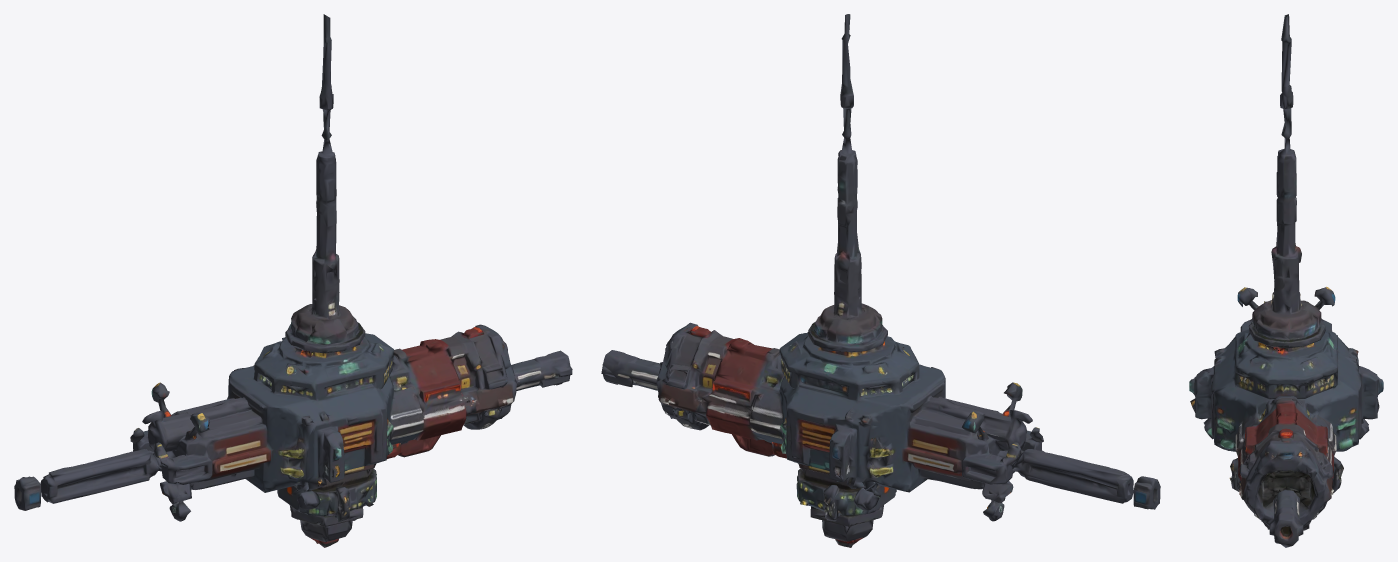
File: spacestation1.glb
3 renders of one model, left to right at view 1: azimuth 30°, elevation 25°; view 2: azimuth 150°, elevation 25°; view 3: azimuth 270°, elevation 25°, orthographic.
Visible parts, largest first — view 1: tripo_node_fef07df4-e412-4b02-a0cb-1de33f65fe7f; view 2: tripo_node_fef07df4-e412-4b02-a0cb-1de33f65fe7f; view 3: tripo_node_fef07df4-e412-4b02-a0cb-1de33f65fe7f.
Part boxes in pixels (x1=…): tripo_node_fef07df4-e412-4b02-a0cb-1de33f65fe7f: x1=14, y1=14, x2=572, y2=547; tripo_node_fef07df4-e412-4b02-a0cb-1de33f65fe7f: x1=601, y1=14, x2=1160, y2=547; tripo_node_fef07df4-e412-4b02-a0cb-1de33f65fe7f: x1=1189, y1=14, x2=1383, y2=547.
Size of the model in its own units: 1 by 0.9264 by 0.3124.
1 material, 1 textured.
